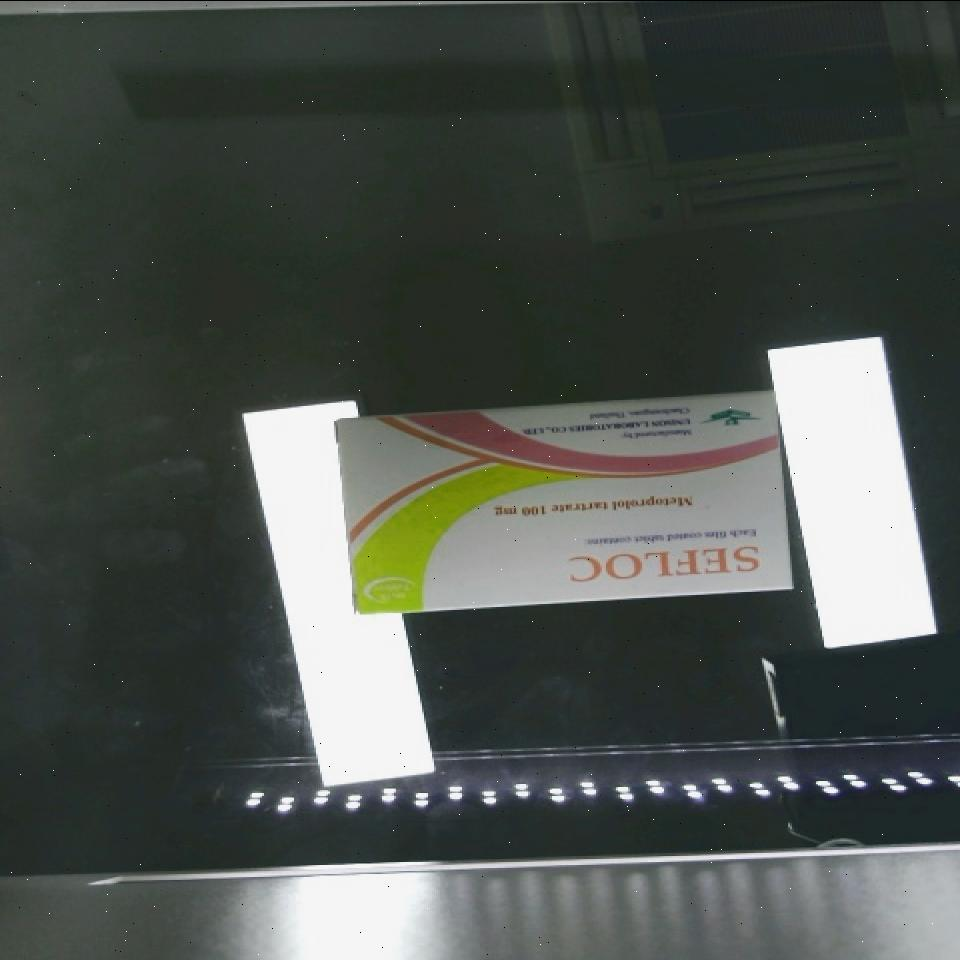medicine_box: (336, 391, 797, 610)
medicine_label_obb: (555, 528, 782, 599)
